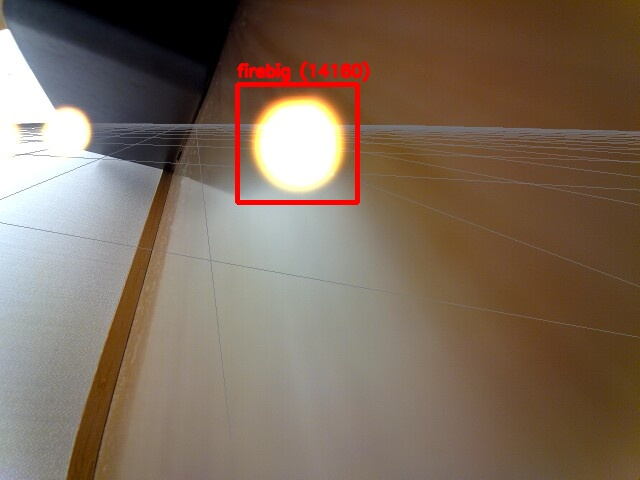firebig: (237, 84, 357, 202)
